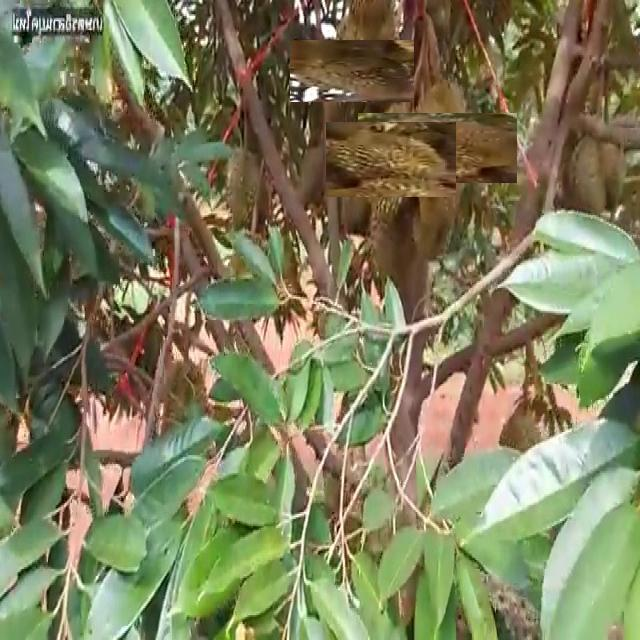durian: (381, 90, 495, 206), (340, 108, 442, 210), (305, 25, 399, 118)
